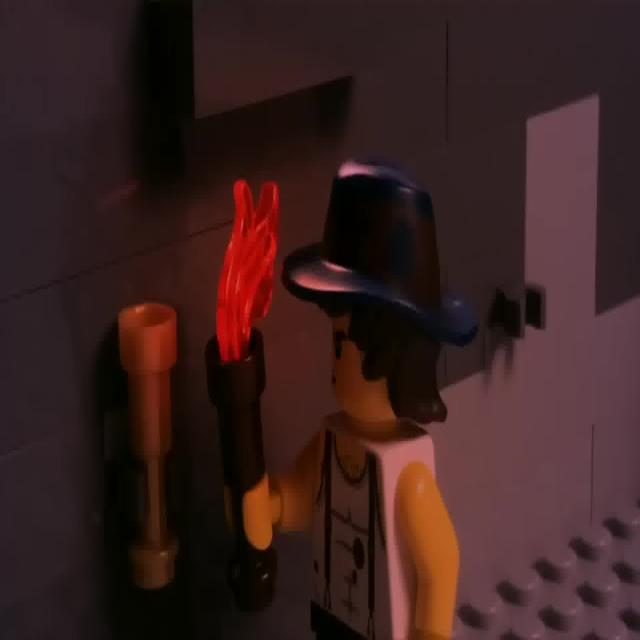4: (387, 462, 471, 639), (214, 447, 310, 567)
hand: (300, 154, 461, 639)
